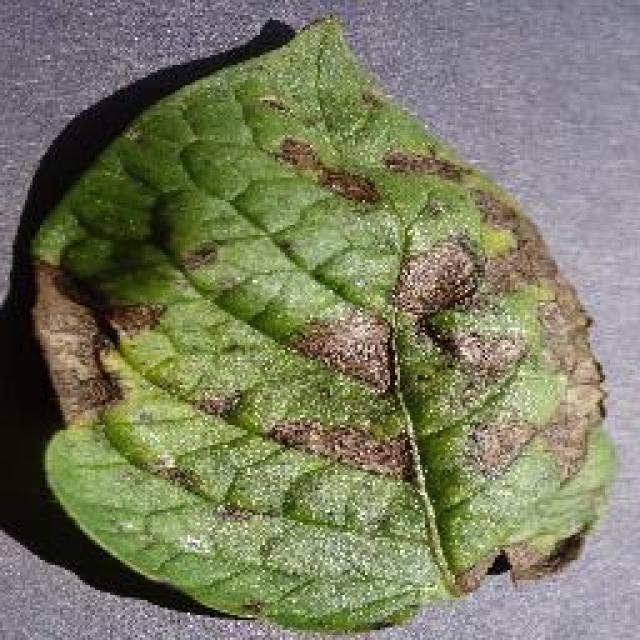early_blight: (25, 13, 615, 635)
